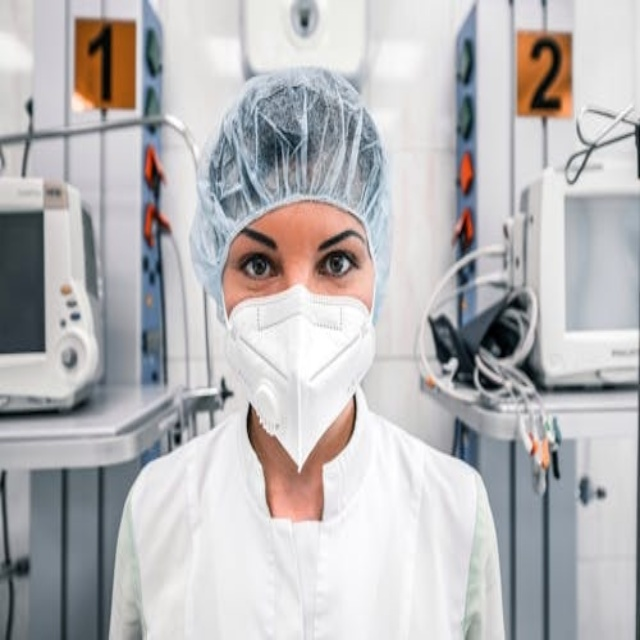Gafas: (566, 102, 639, 185)
Mascara: (222, 282, 376, 472)
Sin_gafas: (221, 215, 369, 296)
